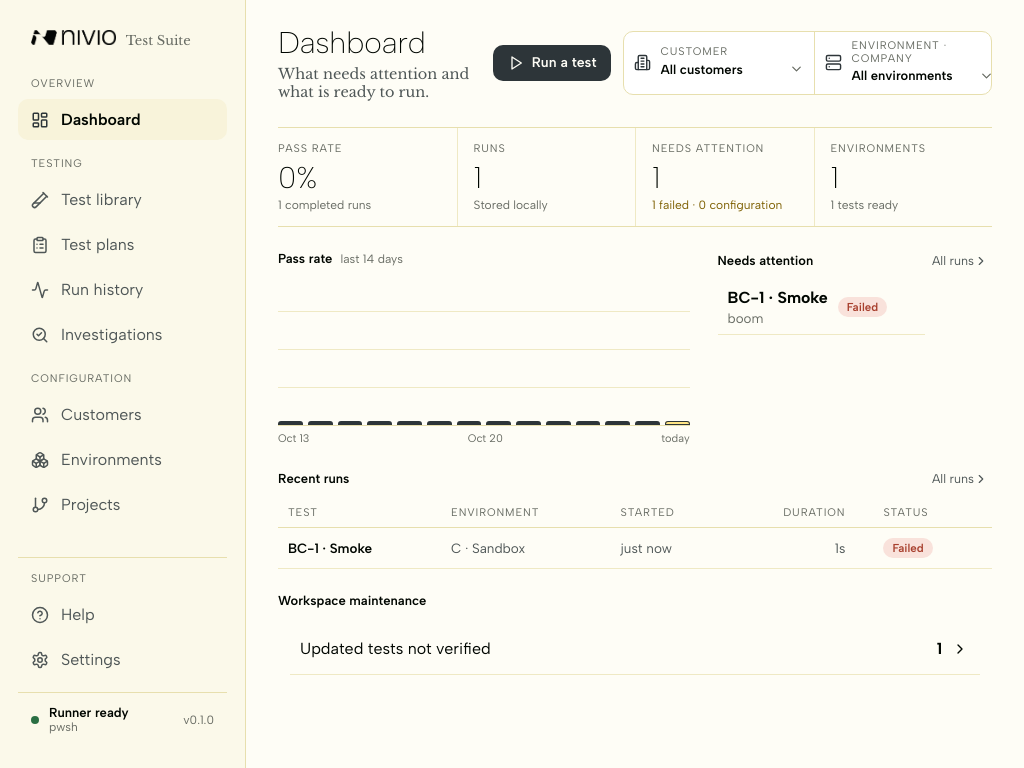
App navigation › shows only the investigation page, not the run page under it, and brings the run back
The width and height of the screenshot is (1024, 768).
Expected: the heading "Dashboard" is shown, [278,24,426,61]
Type keys "{Control>}k{/Control}"
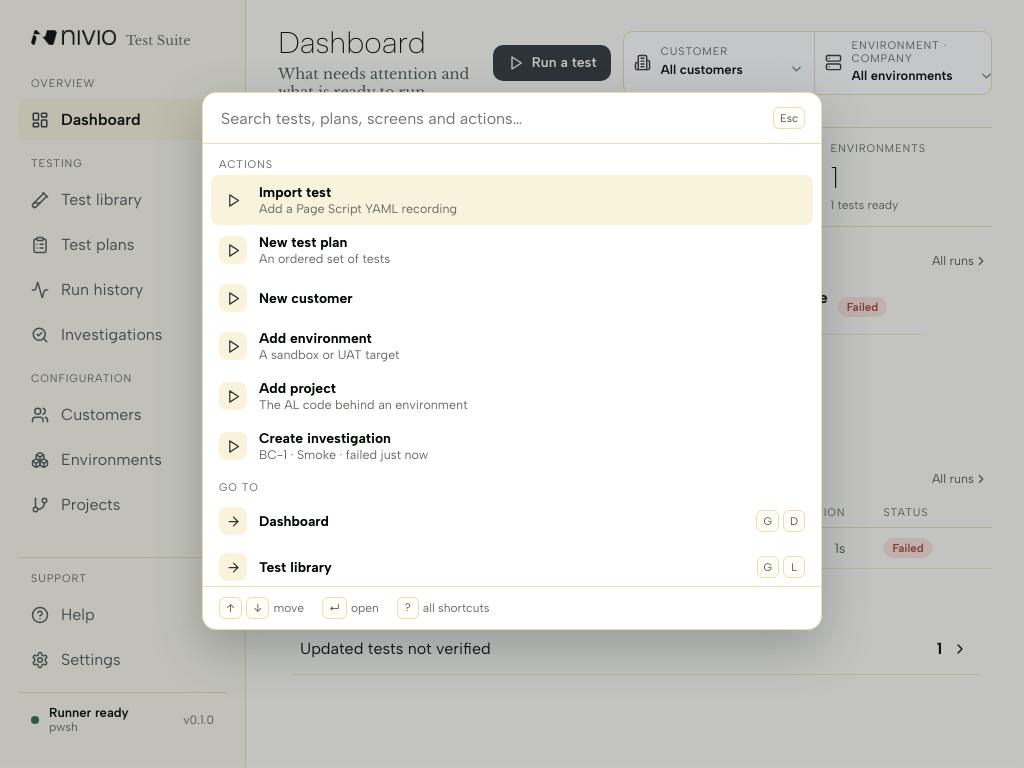
Type "run failed" into the dropdown labelled "Search tests, plans, screens and actions…" at (491, 118), box [219,108,763,129]
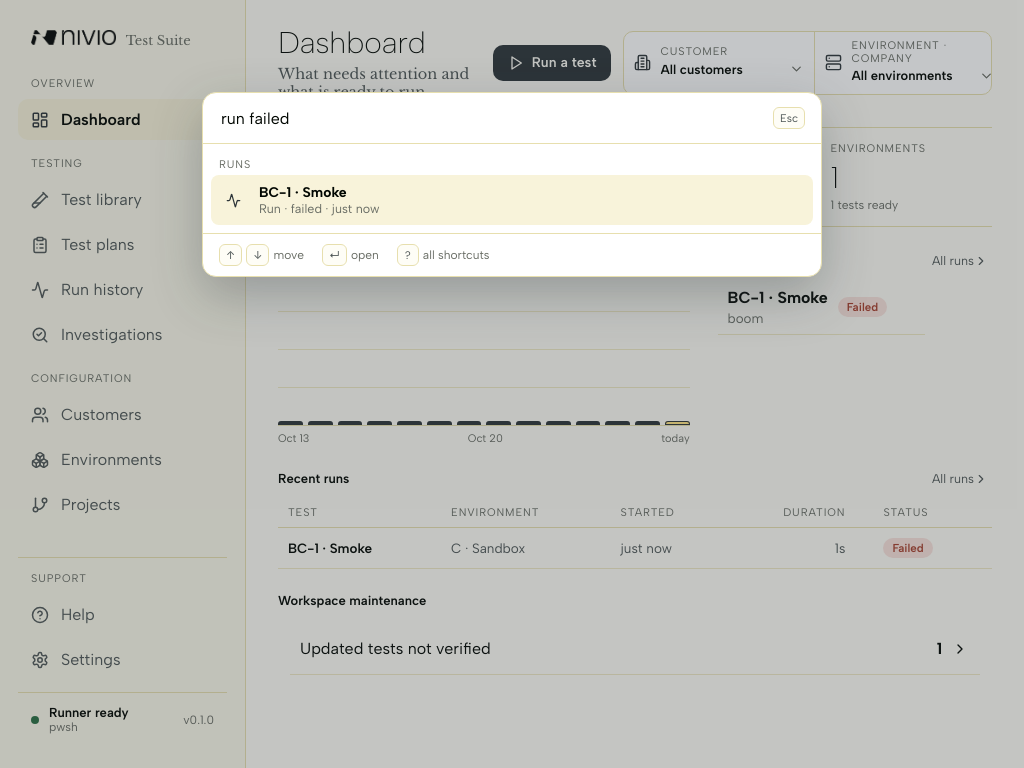
Click the option "BC-1 · Smoke Run · failed · just now" at (303, 193), box [211,175,813,225]
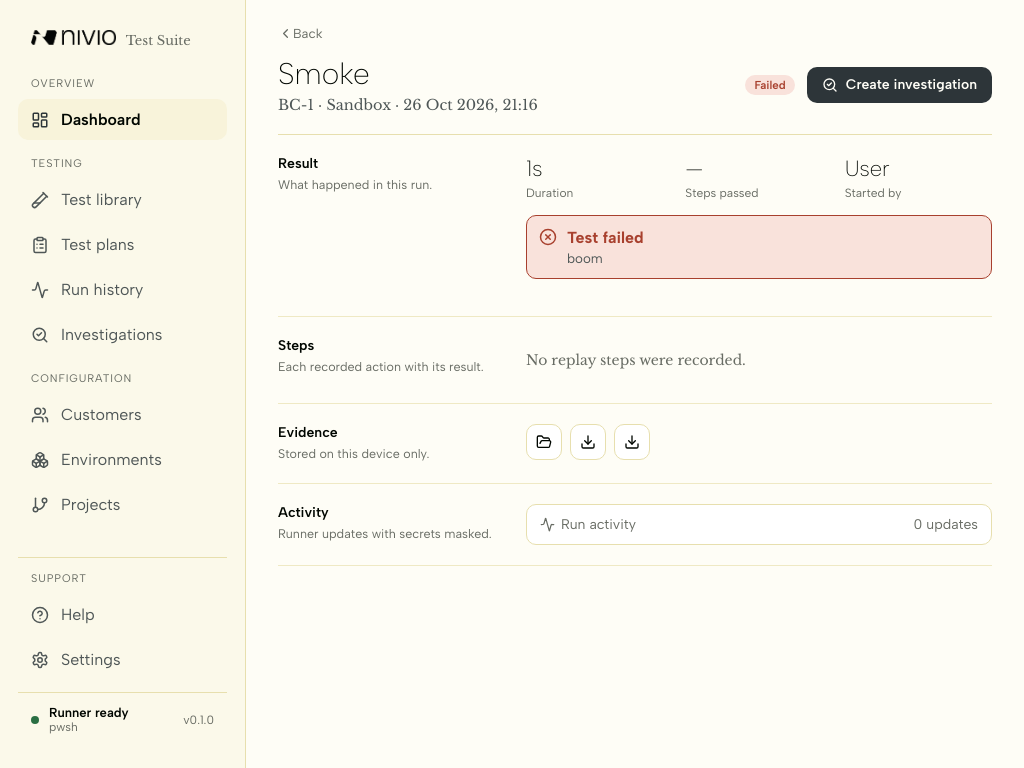
Result: the heading "Smoke" is shown at [278,55,370,92]
Click the button "Create investigation" at (899, 84), box [807,66,992,102]
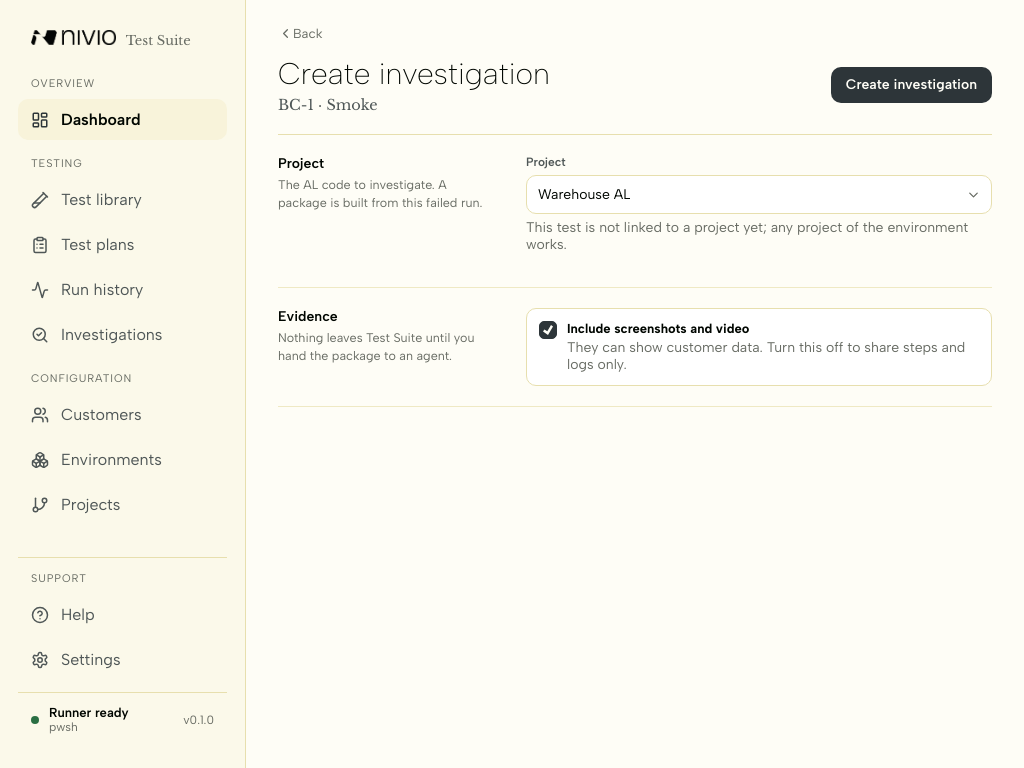
Result: the heading "Create investigation" is shown at [278,55,550,92]
Result: the number of headings "Evidence" is 1 at [278,308,338,325]
Click the button "Back" at (300, 34), box [274,24,326,43]
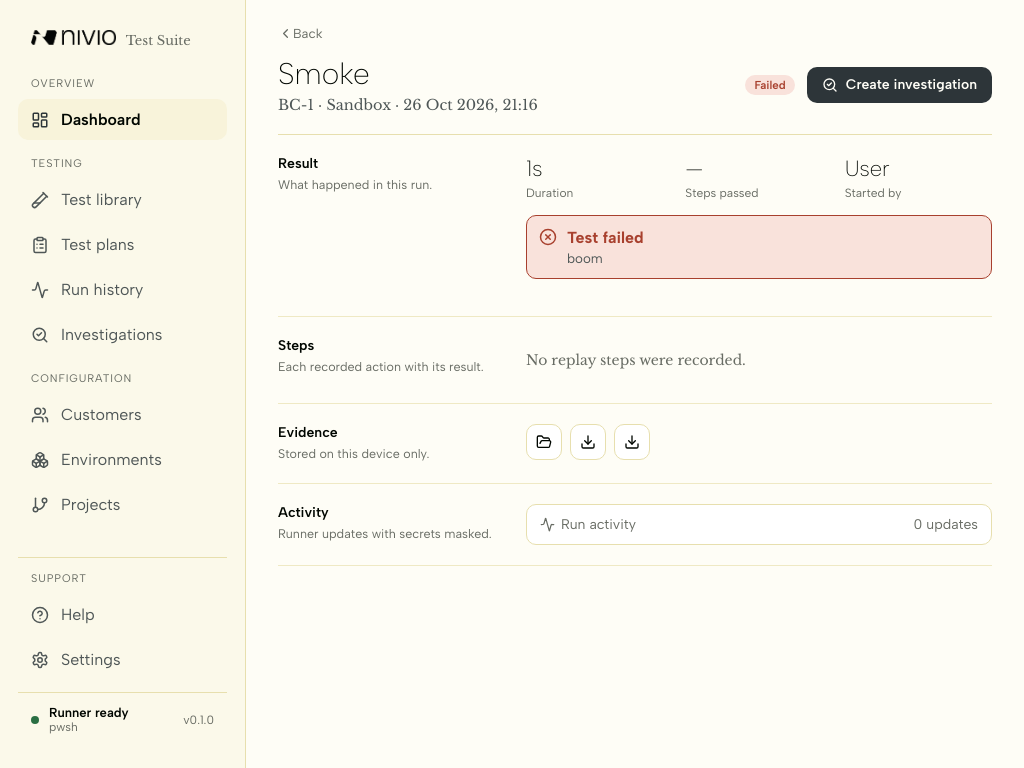
Result: the heading "Smoke" is shown at [278,55,370,92]
